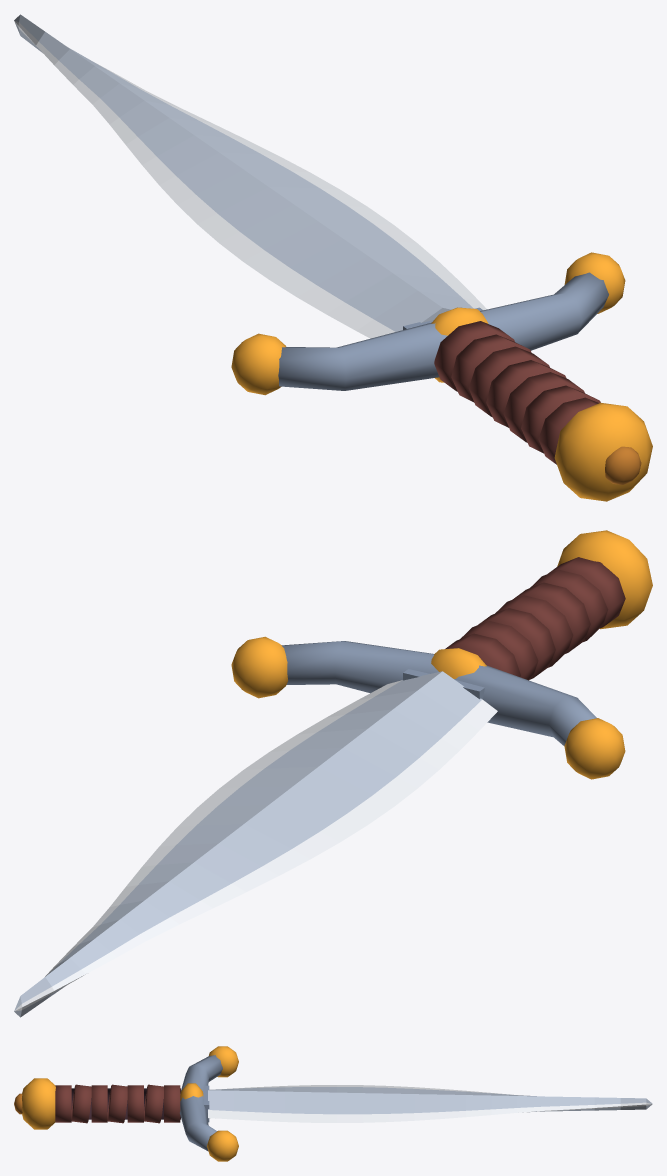
The model's file is weapon_twin_daggers.glb.
3 renders of one model, top to bottom at view 1: azimuth 30°, elevation 25°; view 2: azimuth 150°, elevation 25°; view 3: azimuth 270°, elevation 25°, orthographic. The views are drawn at different scales.
Visible parts, largest first — view 1: piece; view 2: piece; view 3: piece.
Boxes of the visible parts, <box> form: piece: <box>14,14,652,501</box>; piece: <box>14,530,652,1017</box>; piece: <box>14,1046,652,1161</box>.
Size of the model in its own units: 0.1708 by 0.04 by 0.474.
